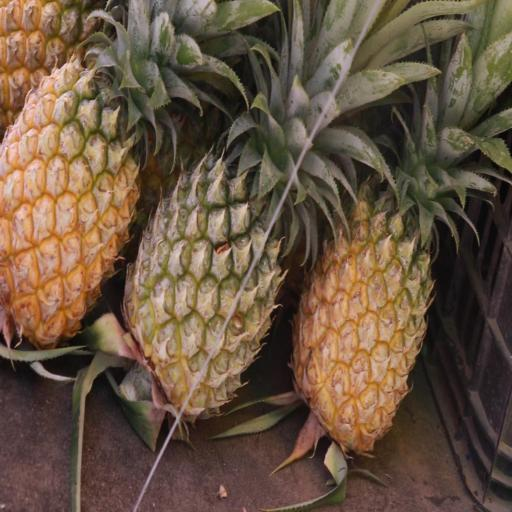Pineapple - v8 v1: (290, 79, 436, 453), (0, 14, 149, 368)
